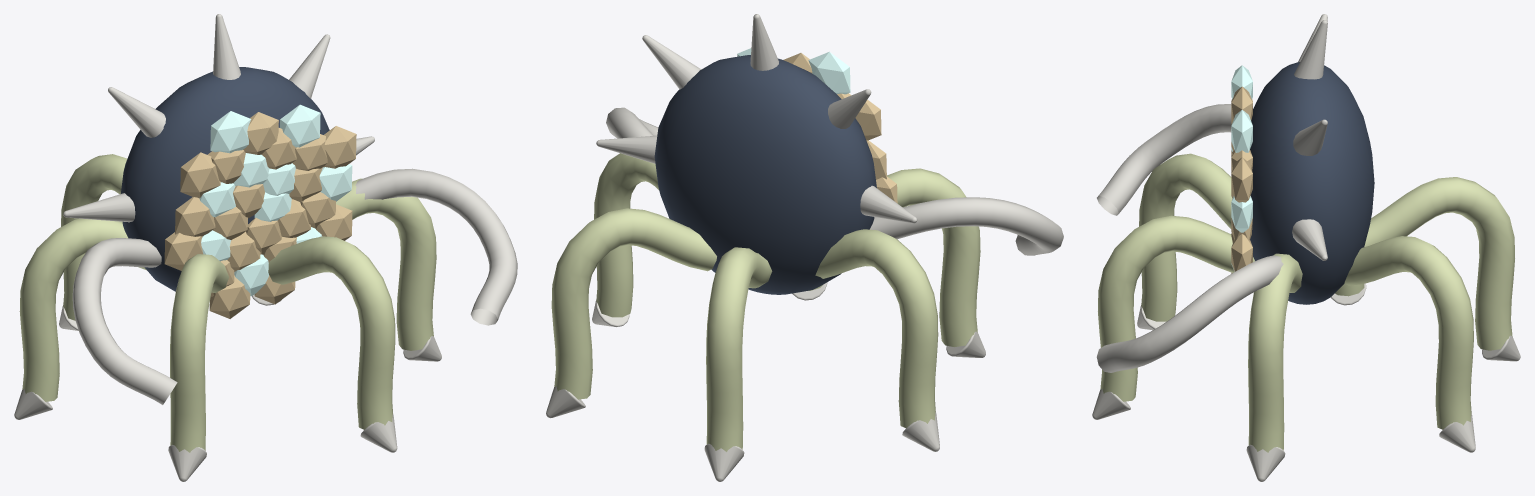
Rendered from bio_crown_stalker_10_near.glb.
3 renders of one model, left to right at view 1: azimuth 30°, elevation 25°; view 2: azimuth 150°, elevation 25°; view 3: azimuth 270°, elevation 25°, orthographic. The views are drawn at different scales.
Visible parts, largest first — view 1: Compound lens facet.001, Faceted crown substrate, Crooked support.003, Compound lens facet, Crooked support.001, Crooked support.002, Scythe sensory limb.001, Scythe sensory limb, Crooked support.004, Crown radiating blade, Crooked support, Contact spur.002 (+3 smaller); view 2: Faceted crown substrate, Crooked support.005, Crooked support.001, Crooked support, Crooked support.002, Scythe sensory limb, Crown radiating blade, Crooked support.004, Compound lens facet.001, Compound lens facet, Scythe sensory limb.001, Contact spur (+3 smaller); view 3: Faceted crown substrate, Crooked support, Crooked support.005, Crooked support.003, Crooked support.004, Crooked support.002, Scythe sensory limb.001, Scythe sensory limb, Crown radiating blade, Compound lens facet.001, Compound lens facet, Contact spur.004 (+3 smaller).
Part boxes in pixels (bbox=[...]): Compound lens facet.001: bbox=[164, 112, 356, 318]; Faceted crown substrate: bbox=[121, 67, 329, 291]; Crooked support.003: bbox=[268, 236, 395, 429]; Compound lens facet: bbox=[199, 104, 352, 296]; Crooked support.001: bbox=[19, 218, 146, 401]; Crooked support.002: bbox=[170, 254, 228, 452]; Scythe sensory limb.001: bbox=[355, 168, 517, 325]; Scythe sensory limb: bbox=[72, 238, 177, 404]; Crooked support.004: bbox=[336, 178, 436, 350]; Crown radiating blade: bbox=[63, 14, 374, 222]; Crooked support: bbox=[61, 154, 127, 320]; Contact spur.002: bbox=[168, 445, 206, 481]; Faceted crown substrate: bbox=[654, 55, 876, 294]; Crooked support.005: bbox=[551, 208, 716, 399]; Crooked support.001: bbox=[815, 229, 938, 427]; Crooked support: bbox=[706, 247, 772, 451]; Crooked support.002: bbox=[887, 168, 980, 346]; Scythe sensory limb: bbox=[870, 197, 1063, 255]; Crown radiating blade: bbox=[596, 14, 917, 223]; Crooked support.004: bbox=[594, 153, 659, 317]; Compound lens facet.001: bbox=[783, 53, 897, 203]; Compound lens facet: bbox=[737, 48, 850, 94]; Scythe sensory limb.001: bbox=[606, 107, 658, 138]; Contact spur: bbox=[704, 443, 744, 481]; Faceted crown substrate: bbox=[1250, 62, 1374, 304]; Crooked support: bbox=[1364, 177, 1514, 350]; Crooked support.005: bbox=[1344, 236, 1473, 429]; Crooked support.003: bbox=[1098, 215, 1254, 401]; Crooked support.004: bbox=[1248, 253, 1302, 452]; Crooked support.002: bbox=[1139, 153, 1232, 321]; Scythe sensory limb.001: bbox=[1096, 255, 1283, 372]; Scythe sensory limb: bbox=[1097, 104, 1231, 215]; Crown radiating blade: bbox=[1292, 14, 1327, 260]; Compound lens facet.001: bbox=[1231, 86, 1252, 273]; Compound lens facet: bbox=[1231, 65, 1252, 271]; Contact spur.004: bbox=[1246, 444, 1285, 481].
Bounding box in the file's own units: 2.58 × 2.16 × 2.26.
